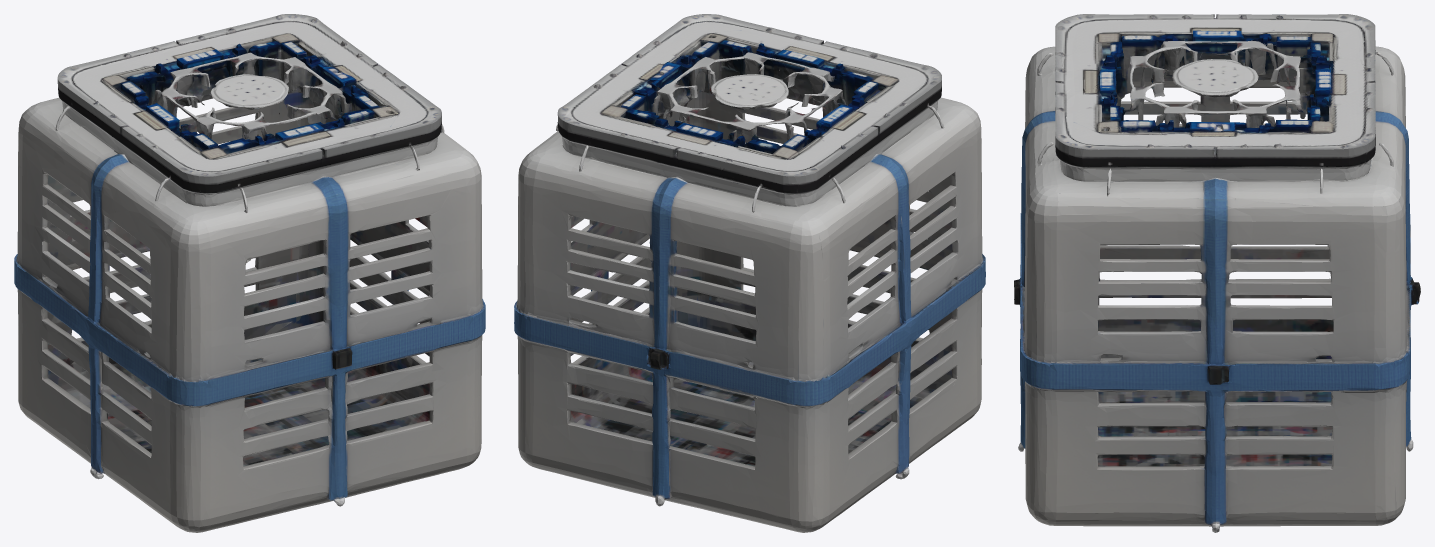
Rendered from WasteBioreactor.glb.
The picture shows the model from 3 angles, left to right: view 1: azimuth 30°, elevation 25°; view 2: azimuth 150°, elevation 25°; view 3: azimuth 270°, elevation 25°; orthographic projection. The views are drawn at different scales.
Visible parts, largest first — view 1: world; view 2: world; view 3: world.
Part boxes in pixels (box(x1,y1,x2,y2)): world: box(14, 14, 485, 532); world: box(514, 14, 985, 532); world: box(1014, 14, 1420, 532).
Bounding box in the file's own units: 0.9432 × 0.9882 × 0.9583.
1 material, 1 textured.
